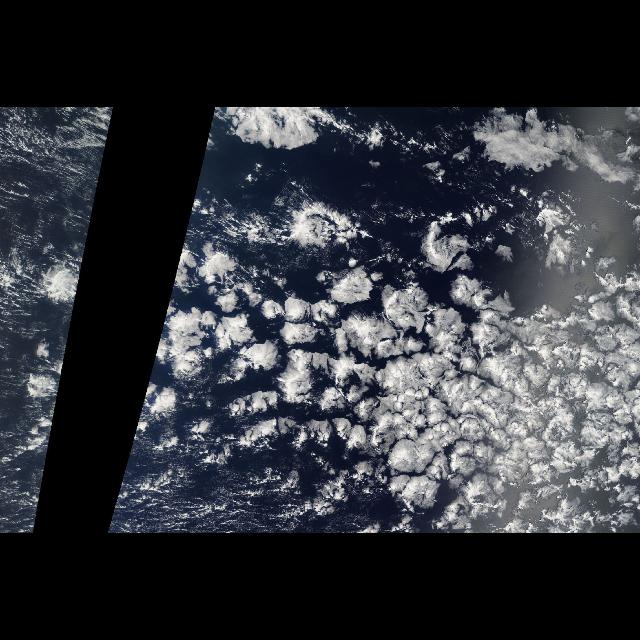Flower: (108, 185, 634, 532), (0, 185, 100, 532)
Sugar: (1, 110, 117, 254)
